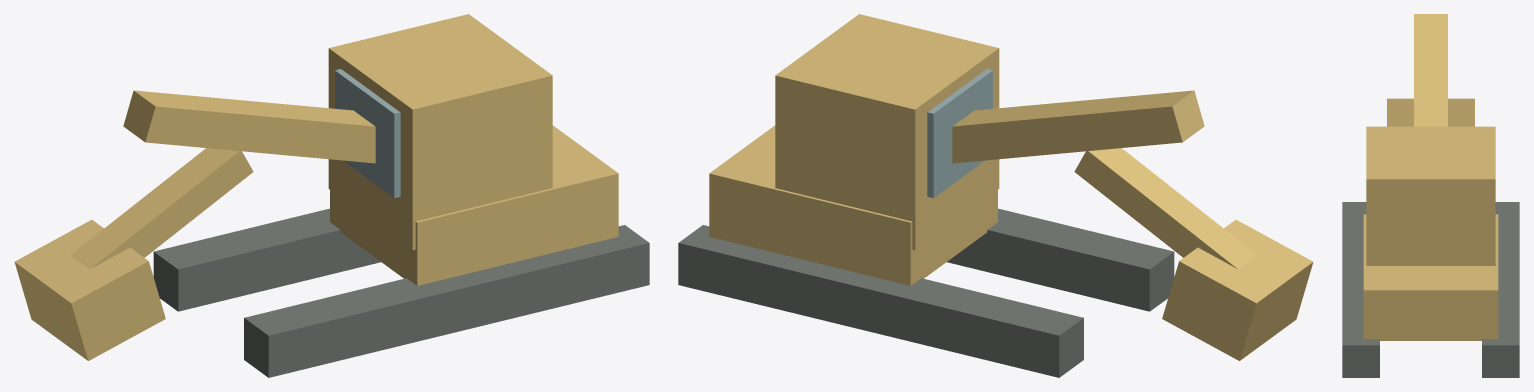
Rendered from excavator-besednice.glb.
3 renders of one model, left to right at view 1: azimuth 30°, elevation 25°; view 2: azimuth 150°, elevation 25°; view 3: azimuth 270°, elevation 25°, orthographic. The views are drawn at different scales.
Parts seen in each view (by area): view 1: operator cabin, right track, counterweight, left track, boom, bucket, dipper, cabin glass; view 2: operator cabin, left track, counterweight, right track, boom, bucket, dipper, cabin glass; view 3: operator cabin, counterweight, left track, right track, boom, bucket.
Boxes of the visible parts, x1,y1,x2,y2 form: operator cabin: [328, 14, 552, 250]; right track: [244, 225, 649, 377]; counterweight: [330, 125, 618, 285]; left track: [153, 208, 380, 311]; boom: [123, 90, 375, 163]; bucket: [14, 219, 165, 360]; dipper: [70, 148, 253, 269]; cabin glass: [335, 69, 400, 198]; operator cabin: [775, 14, 999, 250]; left track: [678, 225, 1083, 377]; counterweight: [709, 125, 997, 285]; right track: [947, 208, 1174, 311]; boom: [952, 90, 1204, 163]; bucket: [1162, 219, 1313, 360]; dipper: [1074, 148, 1257, 269]; cabin glass: [927, 69, 992, 198]; operator cabin: [1366, 126, 1495, 265]; counterweight: [1363, 214, 1498, 340]; left track: [1482, 202, 1519, 377]; right track: [1342, 202, 1379, 377]; boom: [1414, 14, 1447, 126]; bucket: [1387, 98, 1474, 126].
Bounding box in the file's own units: 4.9 × 2.16 × 1.78.
